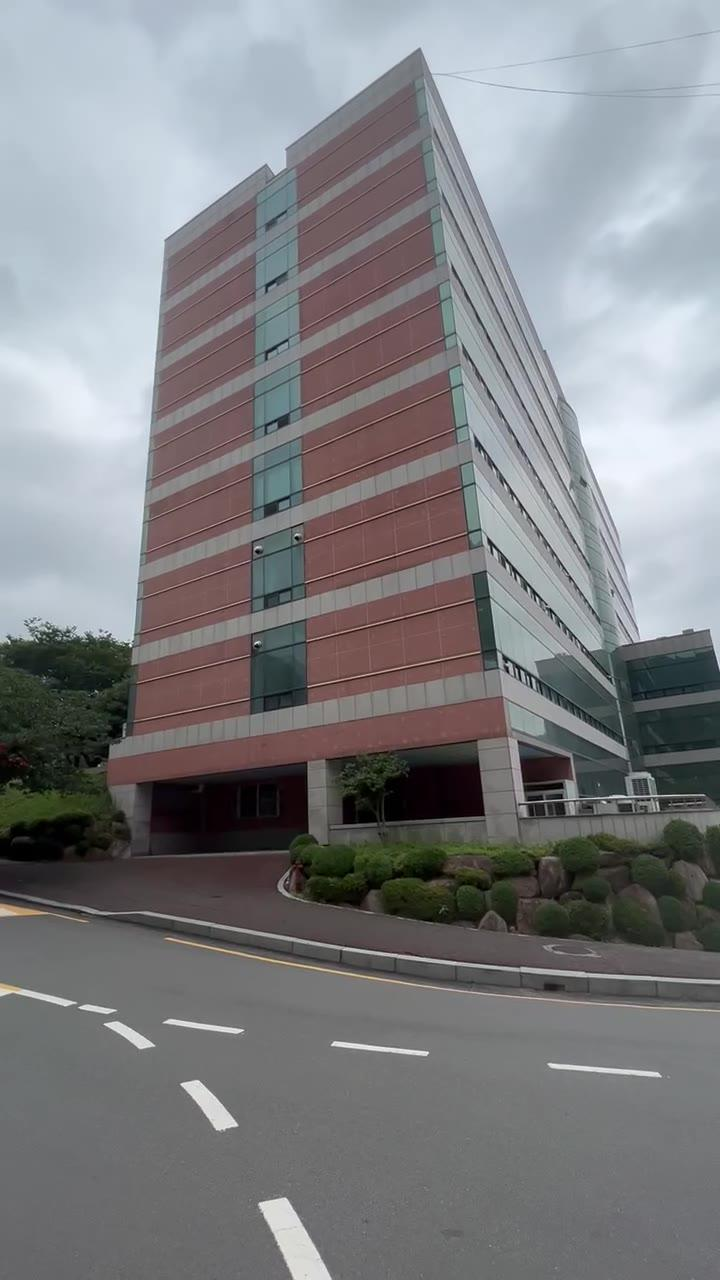building: (132, 48, 574, 752)
